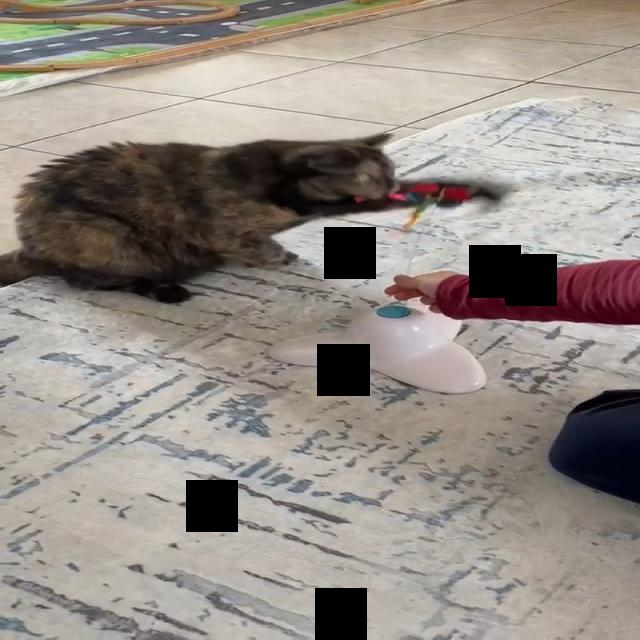authorized: (0, 130, 401, 304)
